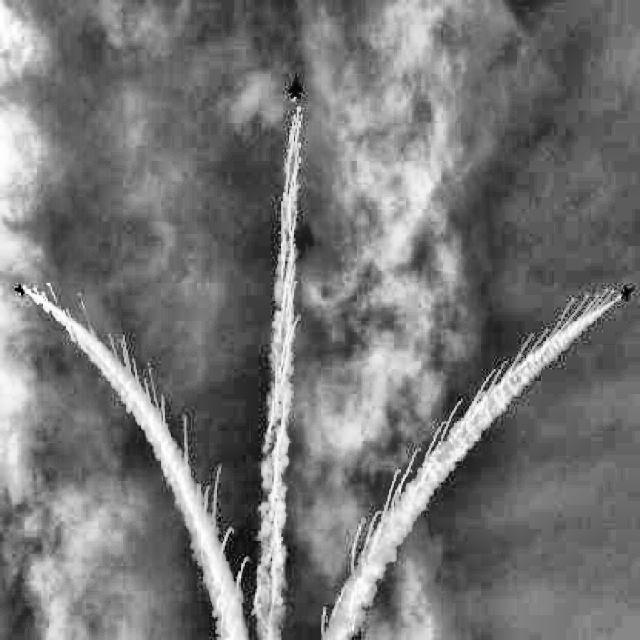F15: (288, 73, 304, 99)
F16: (620, 284, 634, 302), (13, 284, 25, 298)
